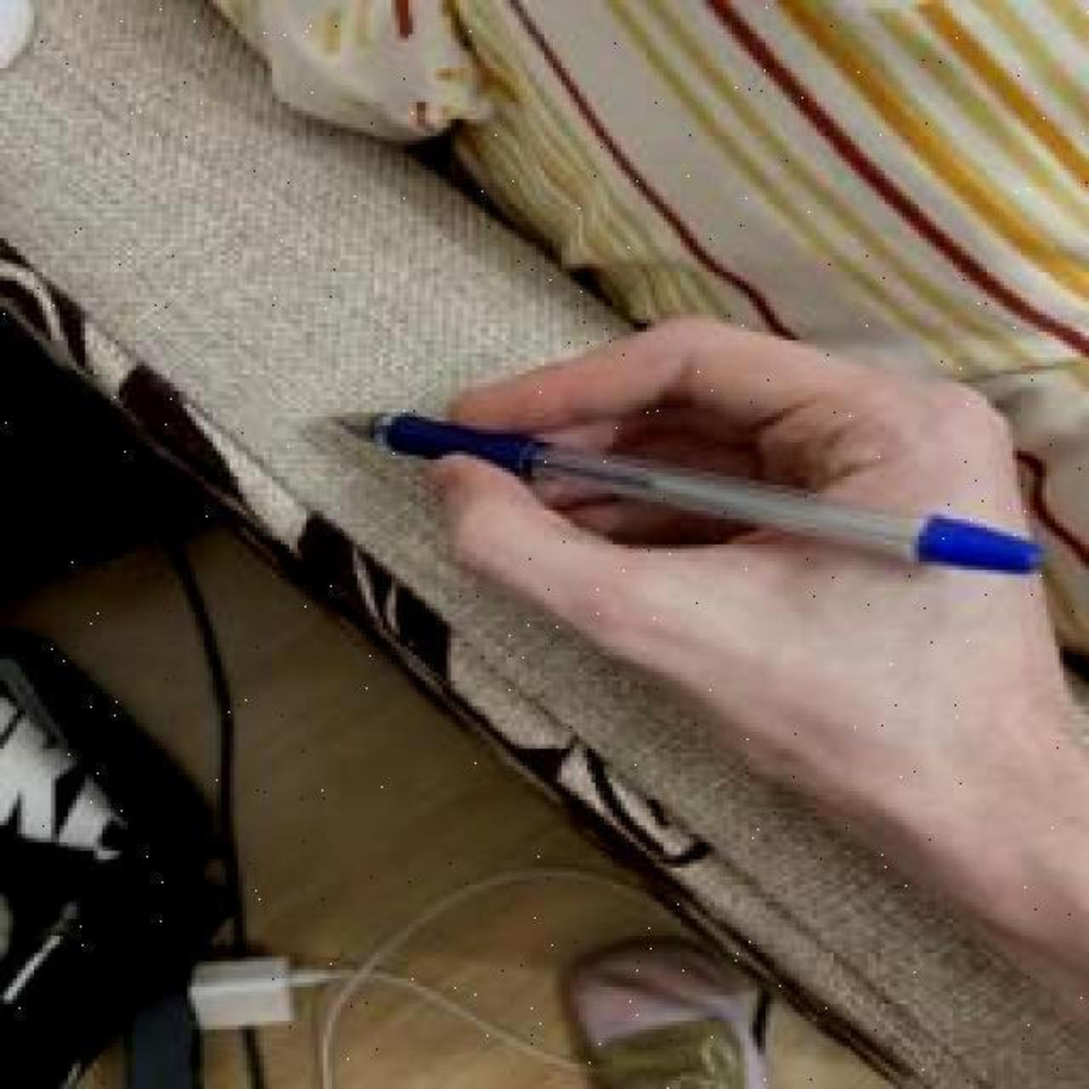pen: (323, 408, 1046, 579)
